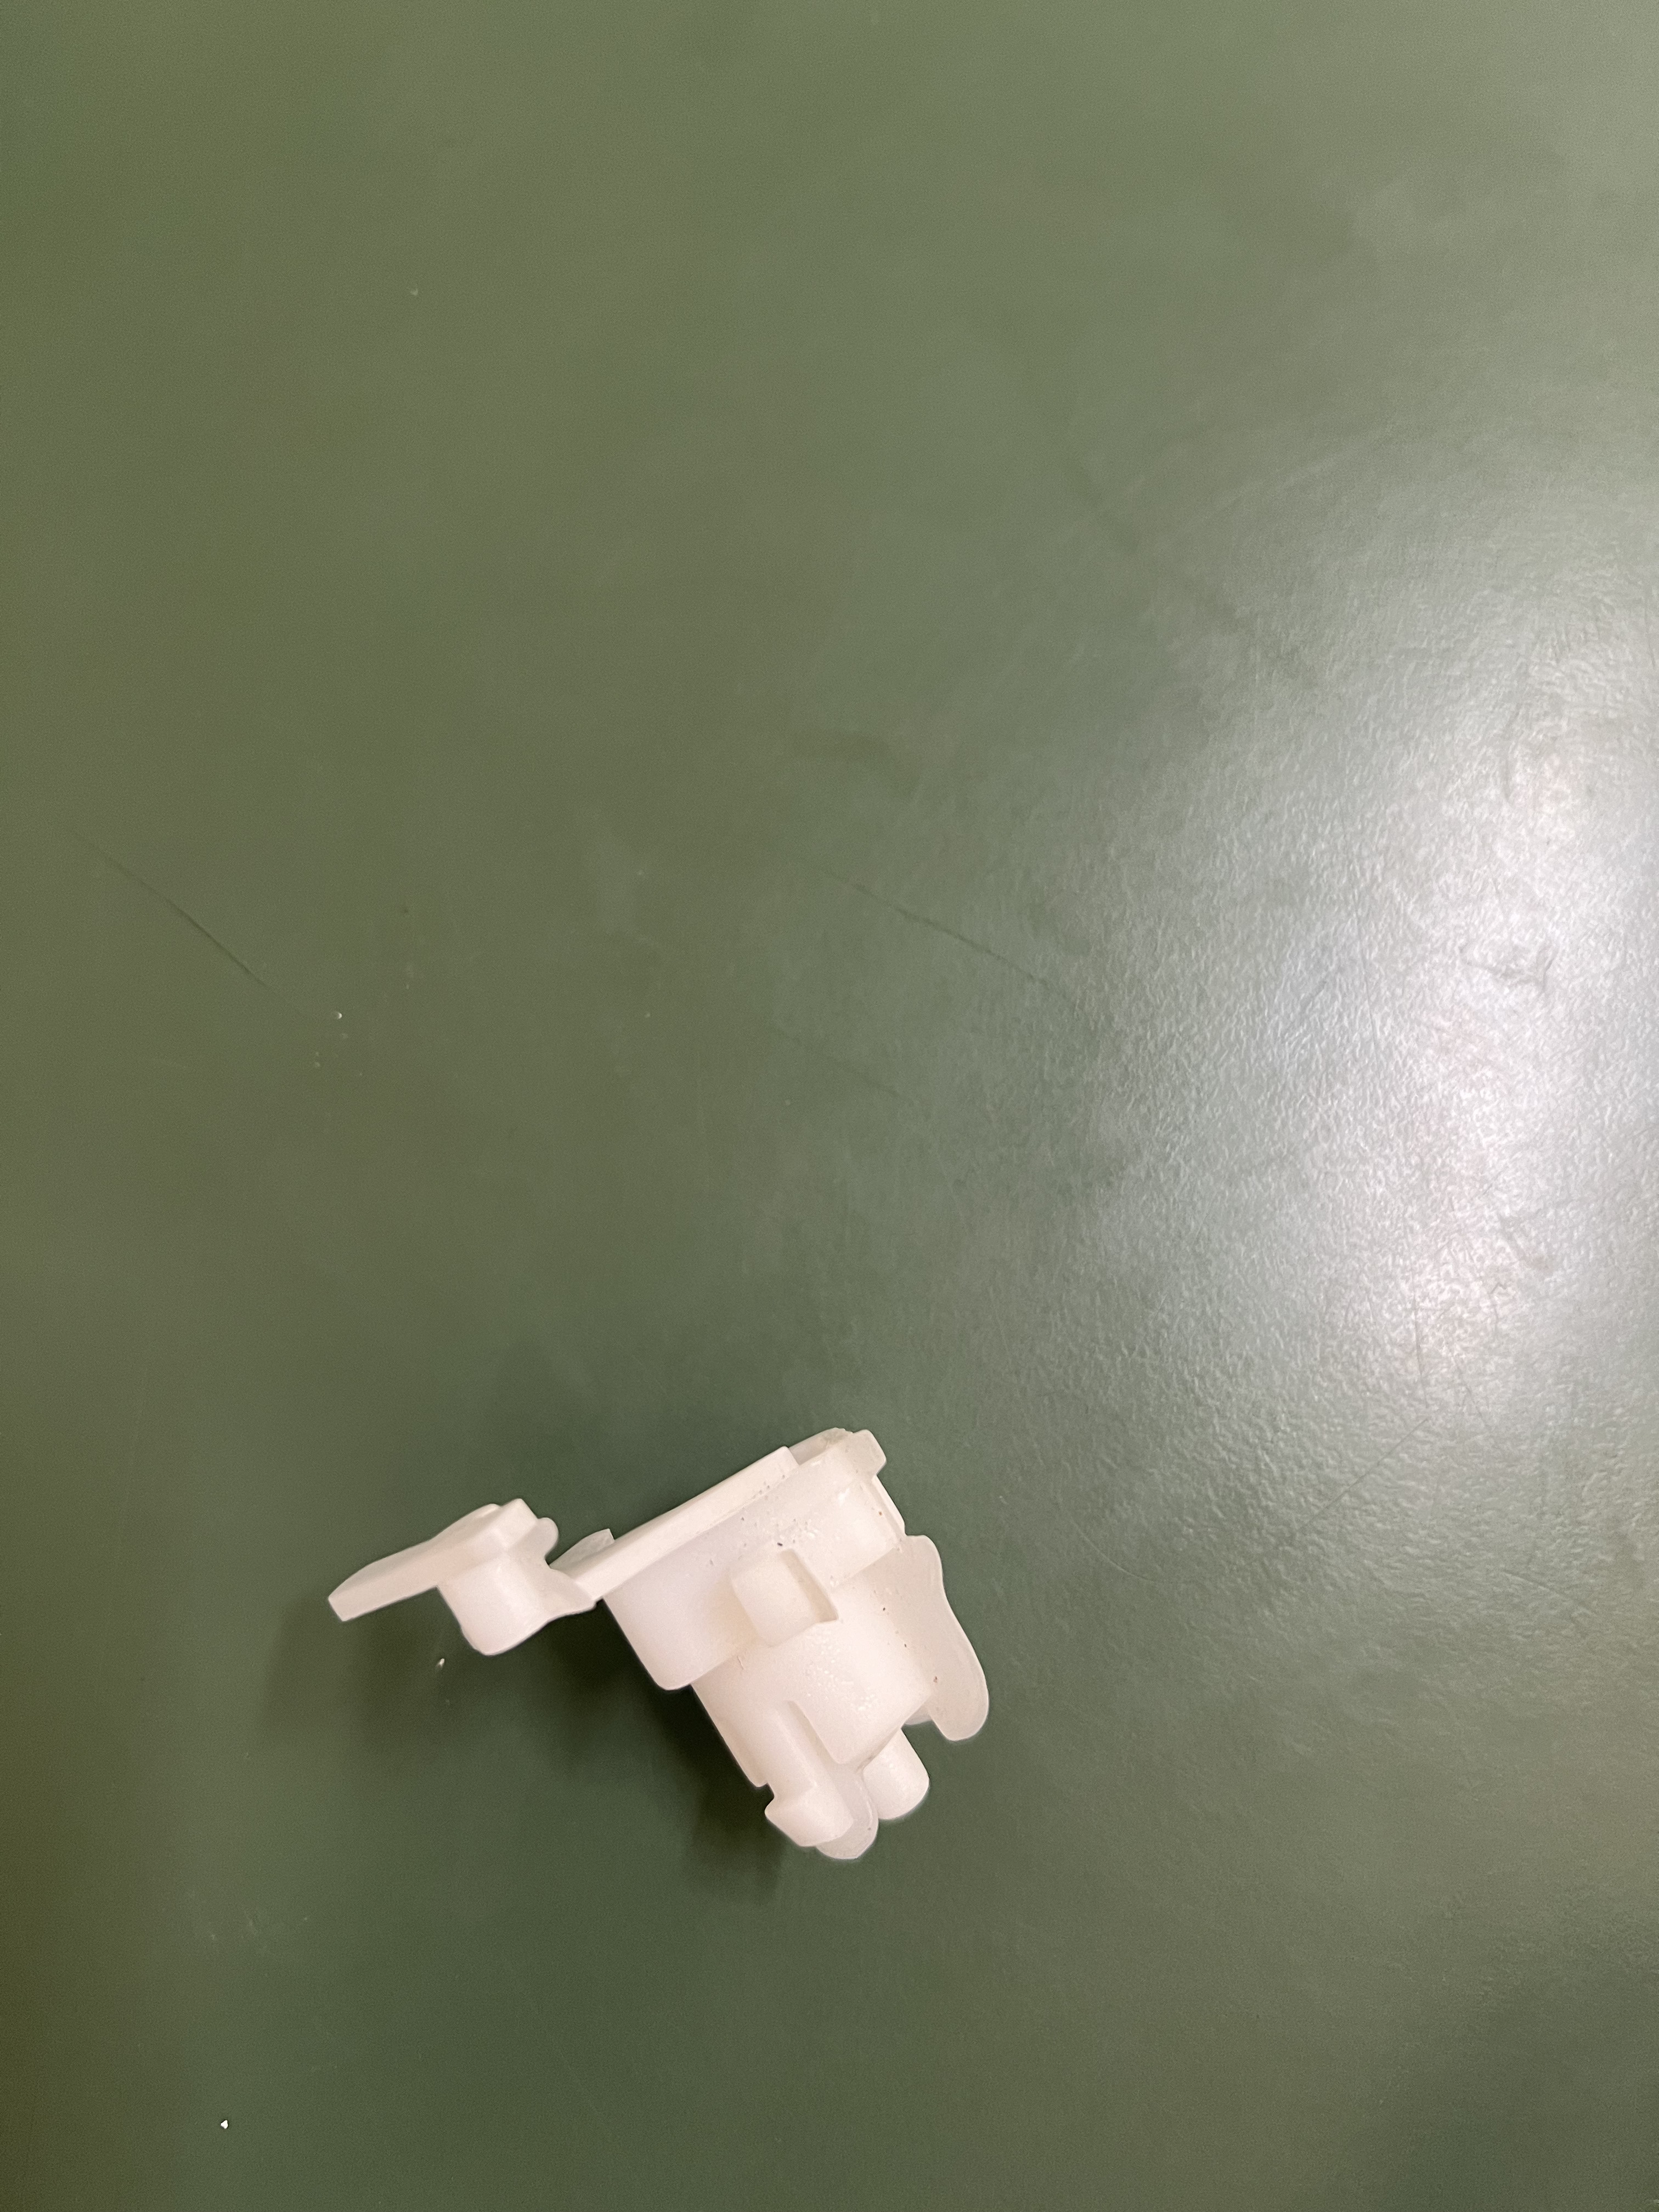drain_lever: (371, 1400, 1032, 1905)
